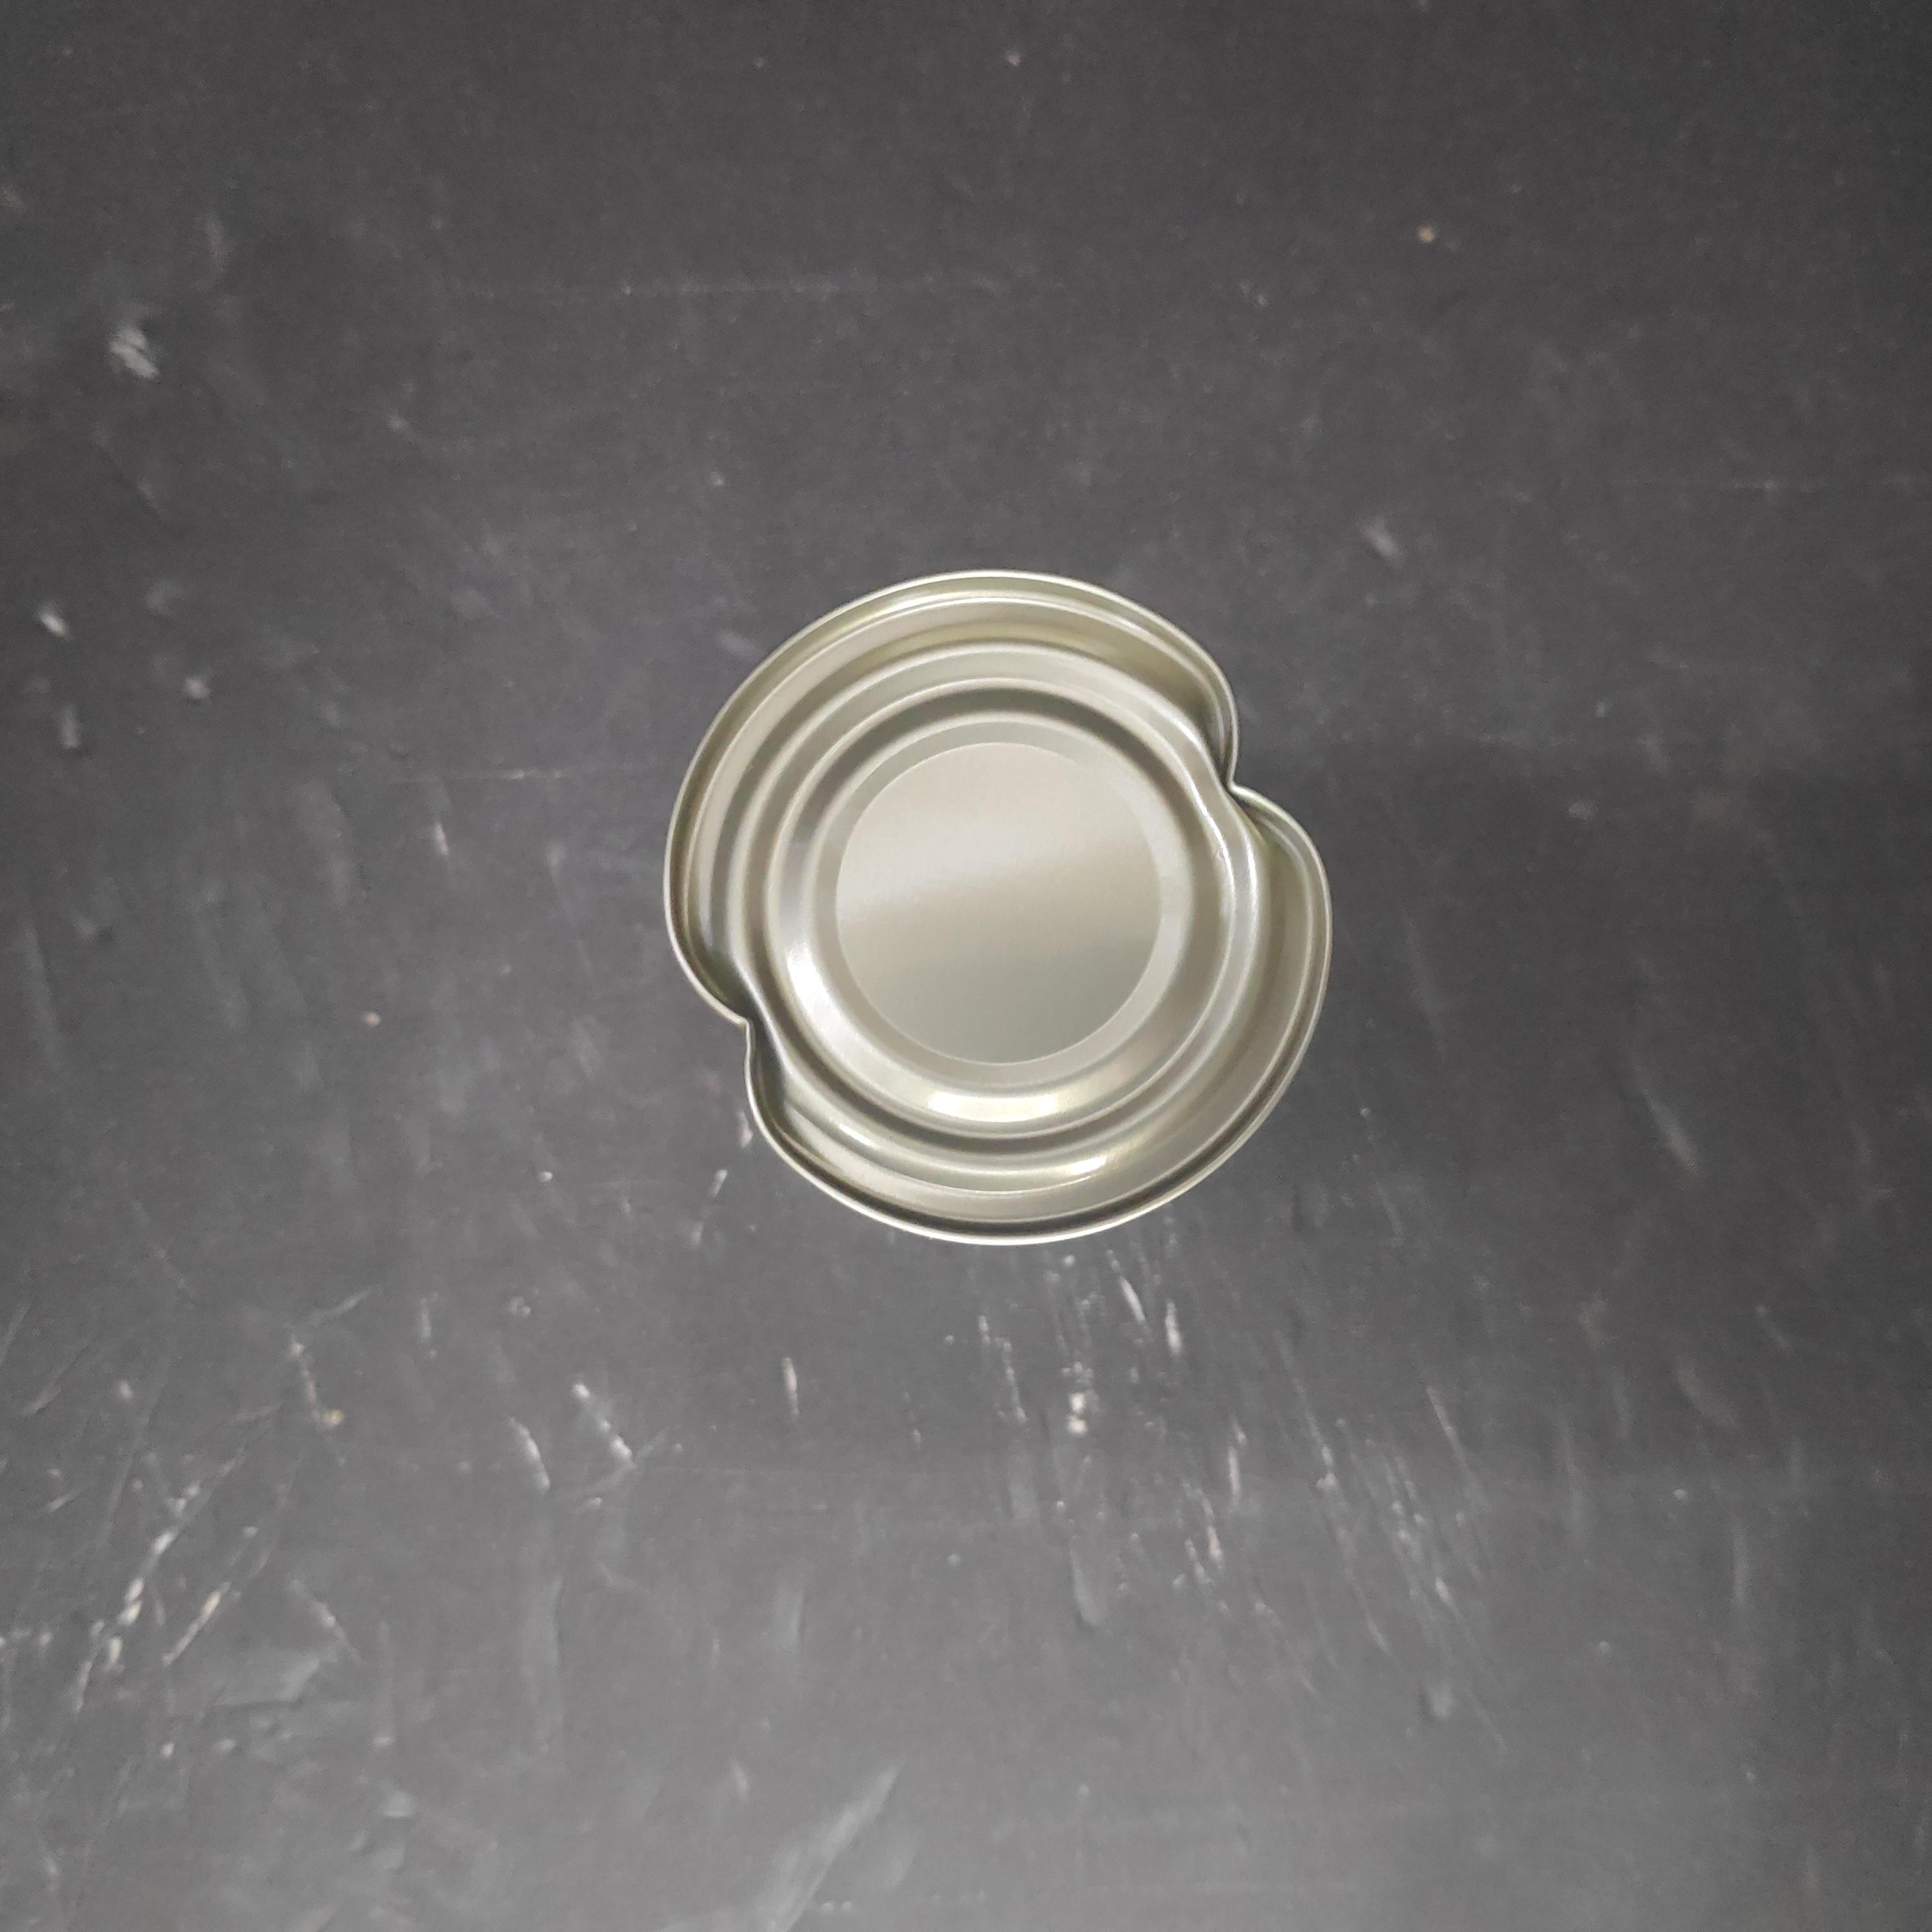Critical Defect: (653, 550, 1350, 1254)
